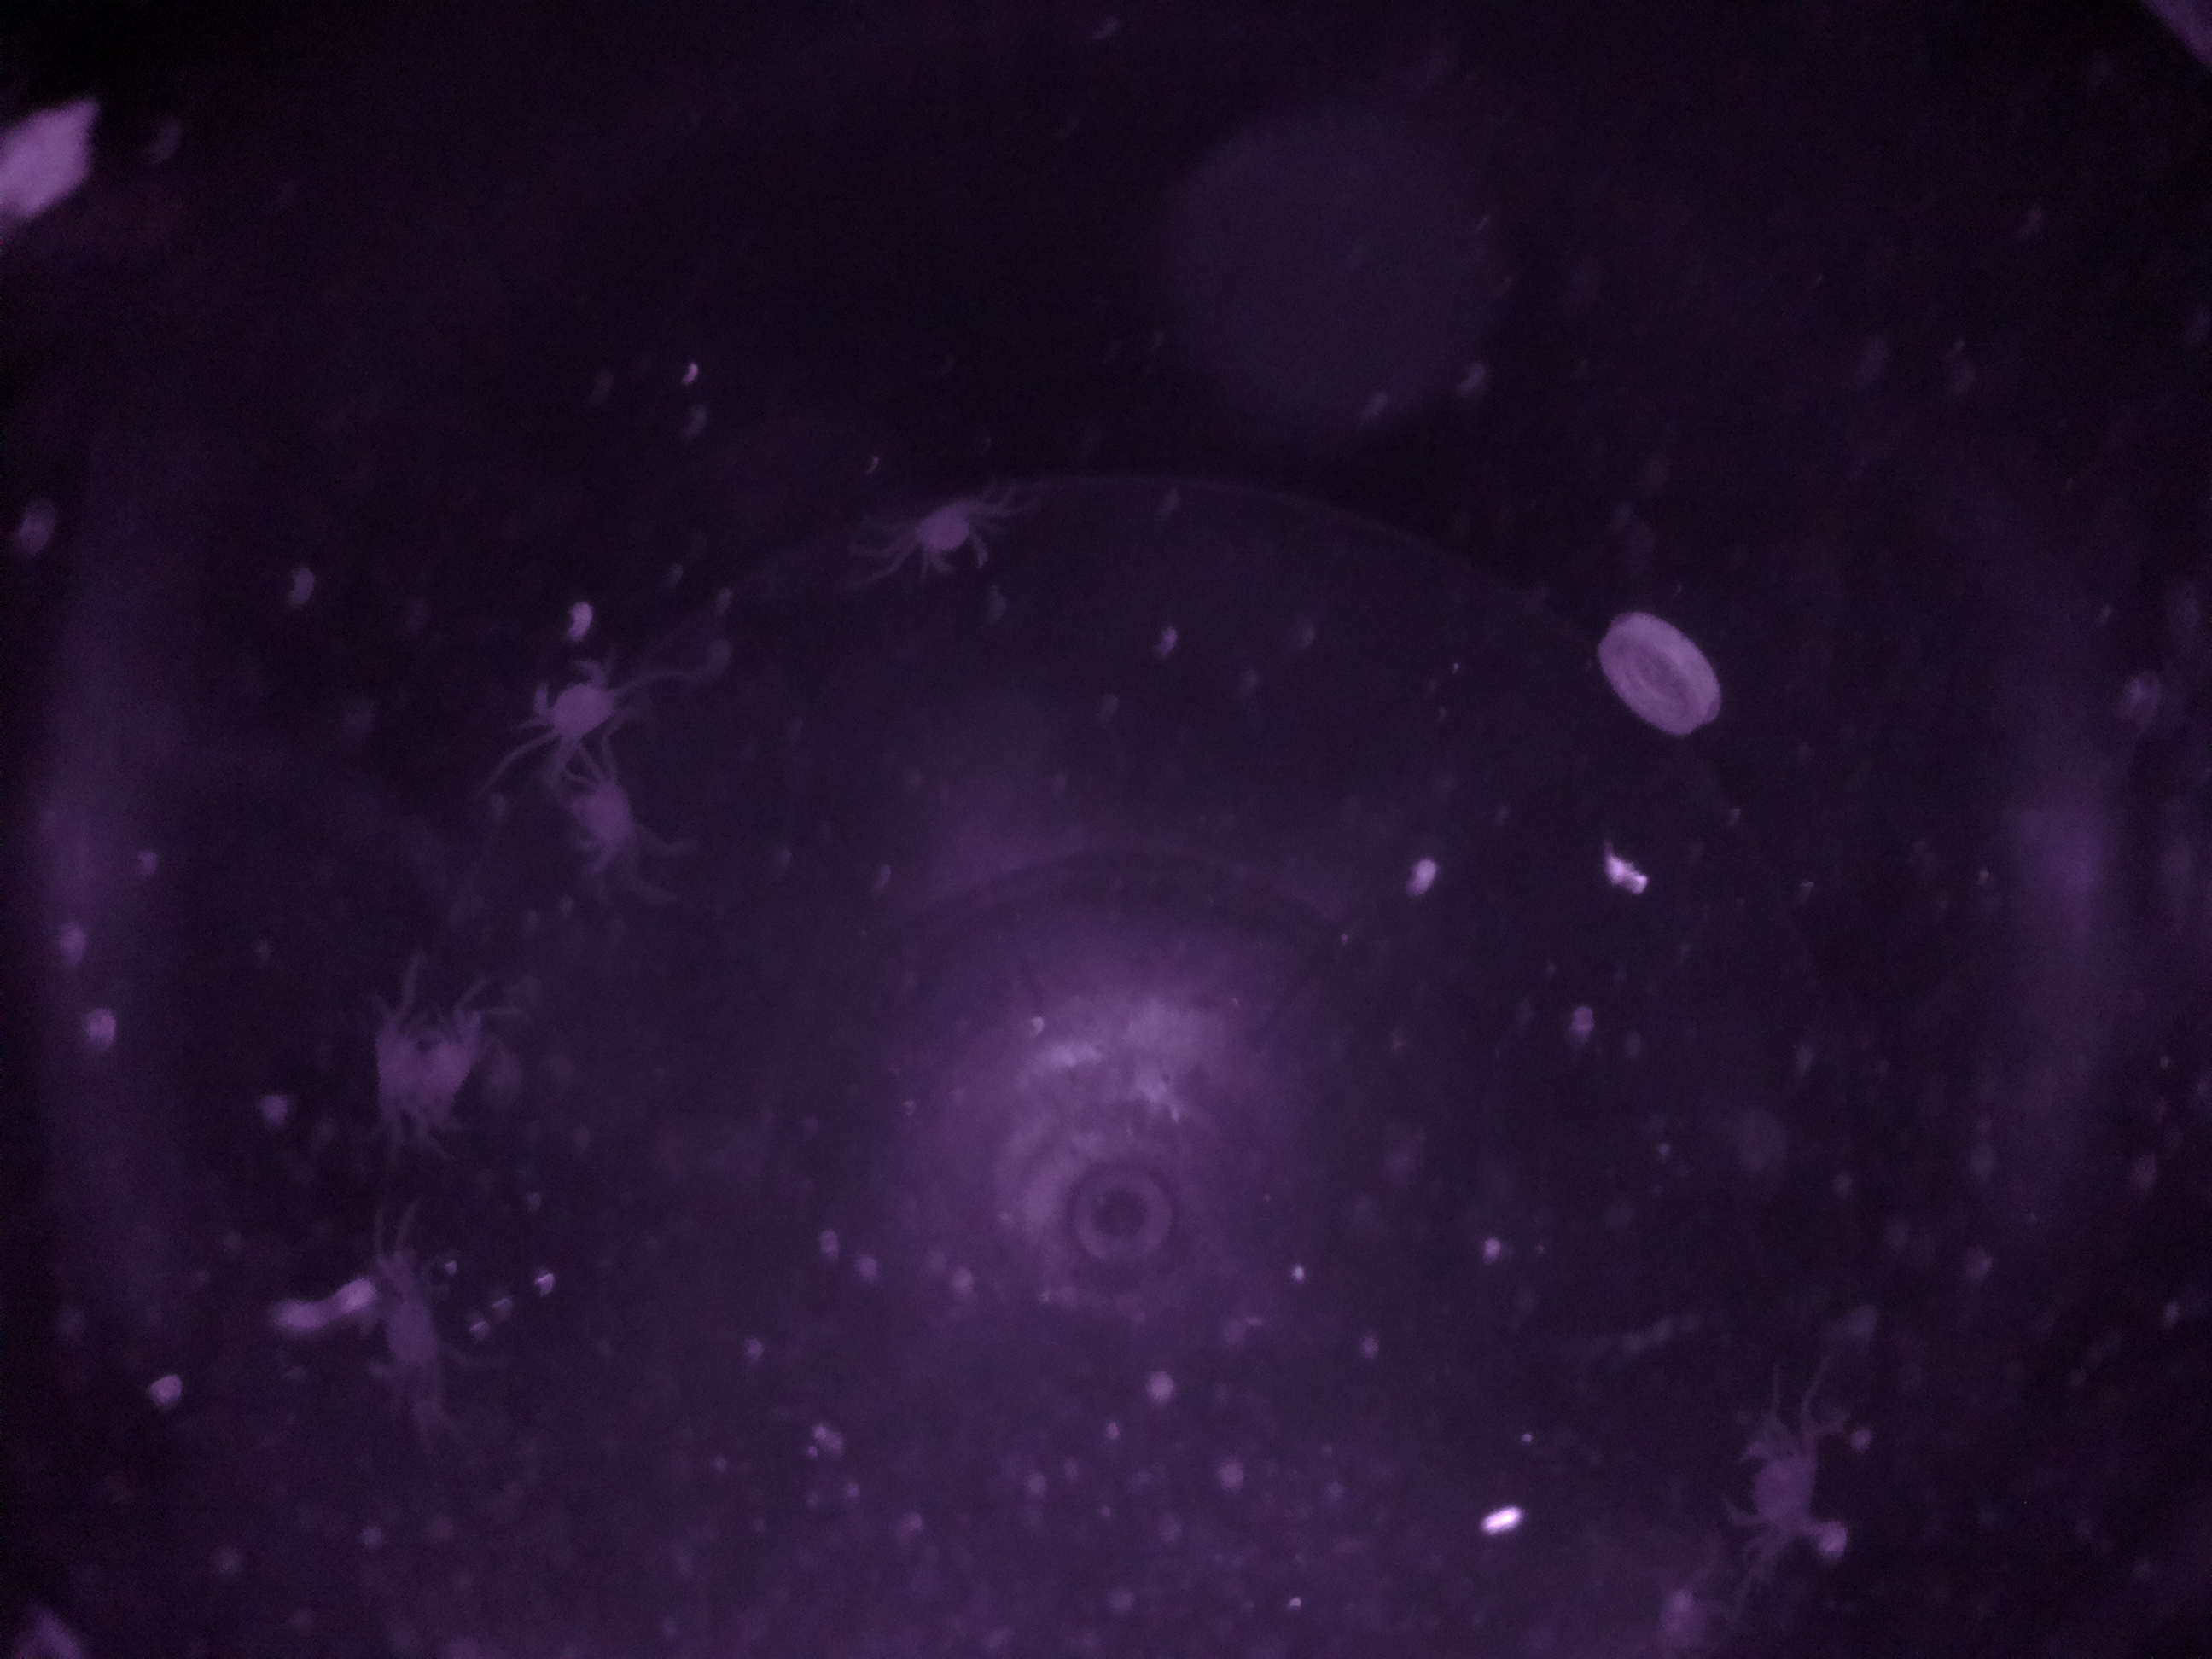Crab: (1723, 1408, 1850, 1567), (888, 465, 1021, 605), (523, 629, 644, 770)
